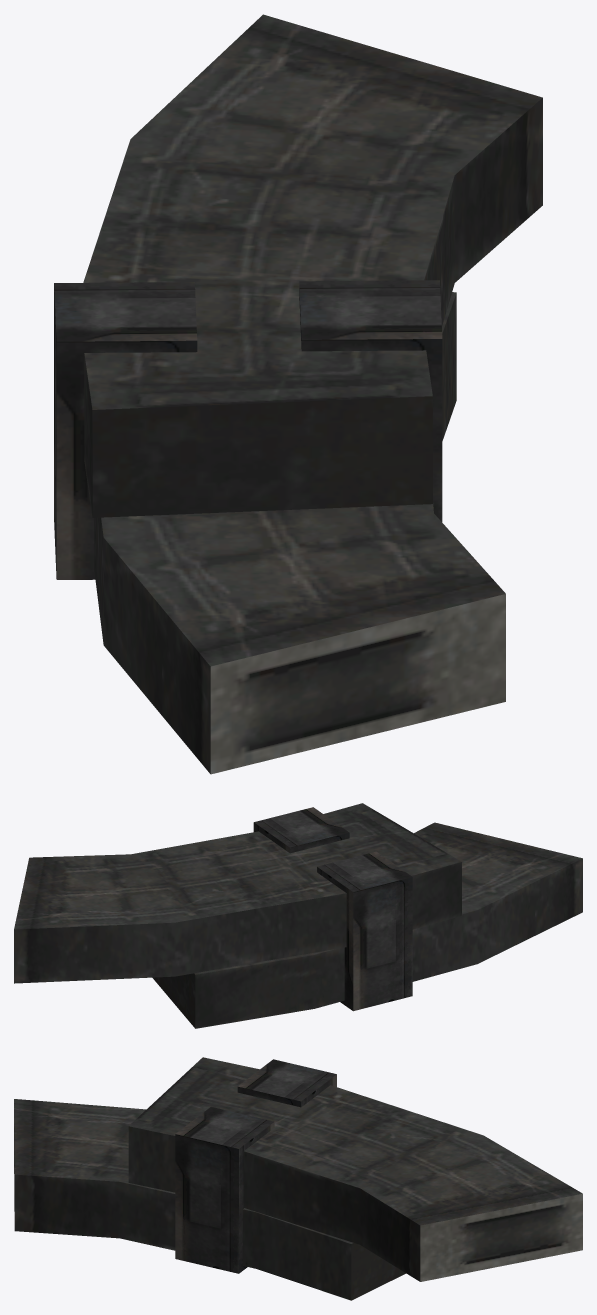
Rendered from t6_attach_fastmag_type95_world_LOD0.obj.
3 renders of one model, top to bottom at view 1: azimuth 30°, elevation 25°; view 2: azimuth 150°, elevation 25°; view 3: azimuth 270°, elevation 25°, orthographic. The views are drawn at different scales.
Visible parts, largest first — view 1: mtl_t6_wpn_ar_type95, mtl_t6_wpn_ar_type95_camo3; view 2: mtl_t6_wpn_ar_type95, mtl_t6_wpn_ar_type95_camo3; view 3: mtl_t6_wpn_ar_type95, mtl_t6_wpn_ar_type95_camo3.
Part boxes in pixels (<box>): mtl_t6_wpn_ar_type95: <box>56,14,542,774</box>; mtl_t6_wpn_ar_type95_camo3: <box>54,280,442,578</box>; mtl_t6_wpn_ar_type95: <box>14,803,582,1028</box>; mtl_t6_wpn_ar_type95_camo3: <box>254,807,412,1010</box>; mtl_t6_wpn_ar_type95: <box>14,1057,582,1300</box>; mtl_t6_wpn_ar_type95_camo3: <box>175,1059,336,1273</box>.
Size of the model in its own units: 19.75 by 6.25 by 25.79.
